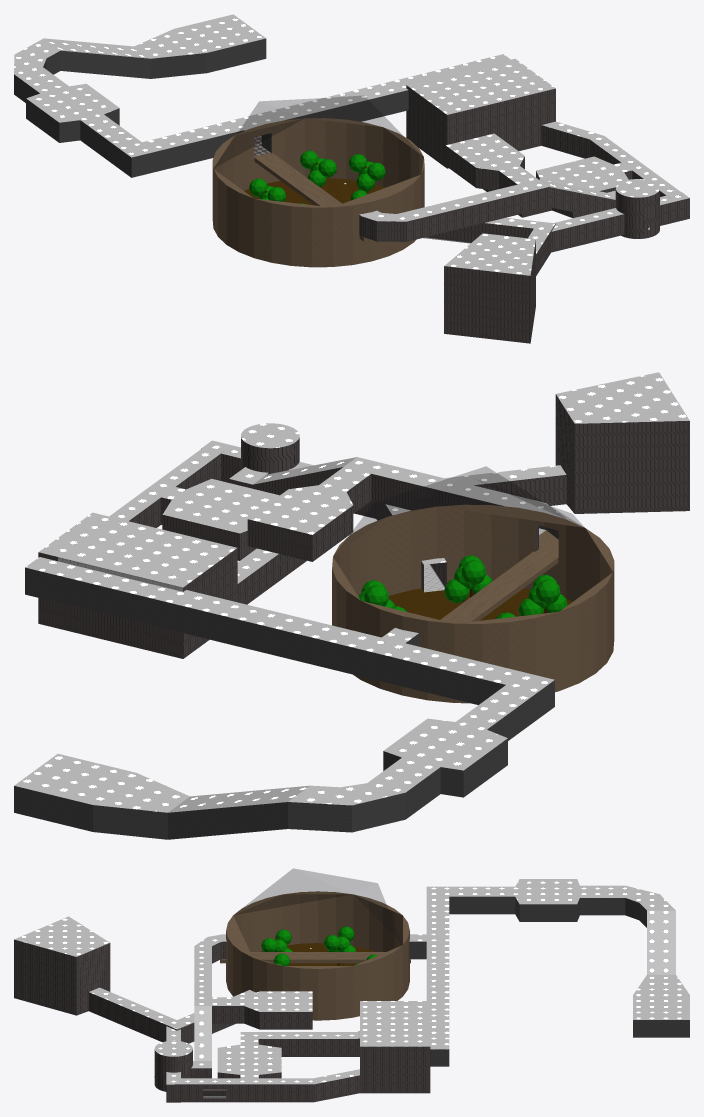
Rendered from map1.glb.
3 renders of one model, top to bottom at view 1: azimuth 30°, elevation 25°; view 2: azimuth 150°, elevation 25°; view 3: azimuth 270°, elevation 25°, orthographic. The views are drawn at different scales.
Parts seen in each view (by area): view 1: Walls; view 2: Walls; view 3: Walls.
Boxes of the visible parts, x1,y1,x2,y2 form: Walls: [14, 14, 689, 343]; Walls: [14, 372, 689, 839]; Walls: [14, 868, 689, 1102].
Size of the model in its own units: 118 by 33.45 by 185.
Materials: 10 (8 with a texture image).
